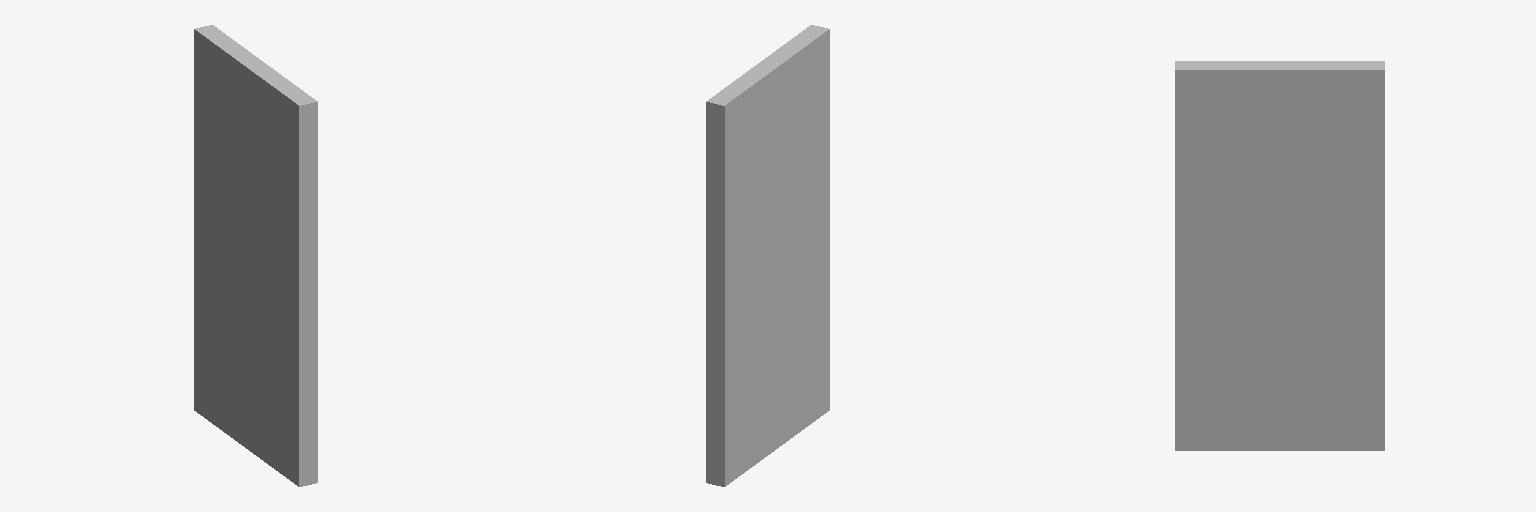
File: door_open.obj
The picture shows the model from 3 angles: view 1: azimuth 30°, elevation 25°; view 2: azimuth 150°, elevation 25°; view 3: azimuth 270°, elevation 25°; orthographic projection.
Visible parts, largest first — view 1: Cube; view 2: Cube; view 3: Cube.
Part boxes in pixels (left/top/right/bottom): Cube: left=194, top=25, right=317, bottom=486; Cube: left=706, top=25, right=829, bottom=486; Cube: left=1175, top=61, right=1384, bottom=450.
Bounding box in the file's own units: 0.1 × 2 × 1.